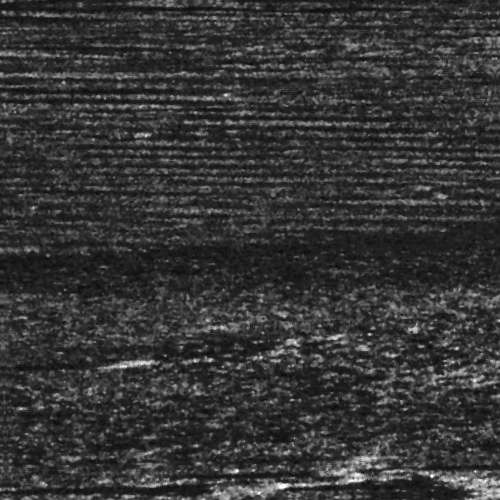object: (86, 474, 367, 495), (76, 352, 181, 363), (288, 466, 371, 475), (315, 454, 398, 461)
shadow: (0, 474, 226, 495), (152, 466, 330, 475), (0, 352, 128, 363), (354, 484, 500, 491), (388, 464, 500, 471), (269, 454, 356, 461), (467, 441, 500, 452)
